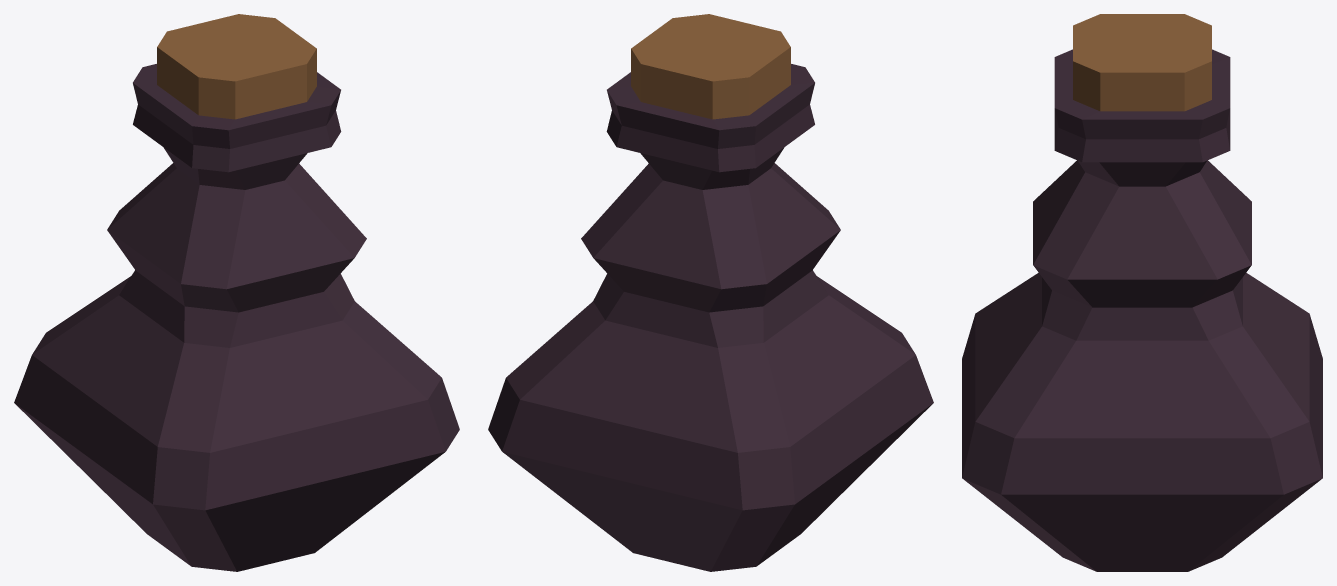
The model's file is junk_bottle.glb.
The picture shows the model from 3 angles, left to right: view 1: azimuth 30°, elevation 25°; view 2: azimuth 150°, elevation 25°; view 3: azimuth 270°, elevation 25°; orthographic projection.
Visible parts, largest first — view 1: Prop_Bottle_2; view 2: Prop_Bottle_2; view 3: Prop_Bottle_2.
Boxes of the visible parts, left/top/right/bottom form: Prop_Bottle_2: left=14, top=14, right=459, bottom=571; Prop_Bottle_2: left=488, top=14, right=933, bottom=571; Prop_Bottle_2: left=962, top=14, right=1322, bottom=571.
Size of the model in its own units: 0.3079 by 0.4659 by 0.3079.
Materials: 1 (1 with a texture image).
